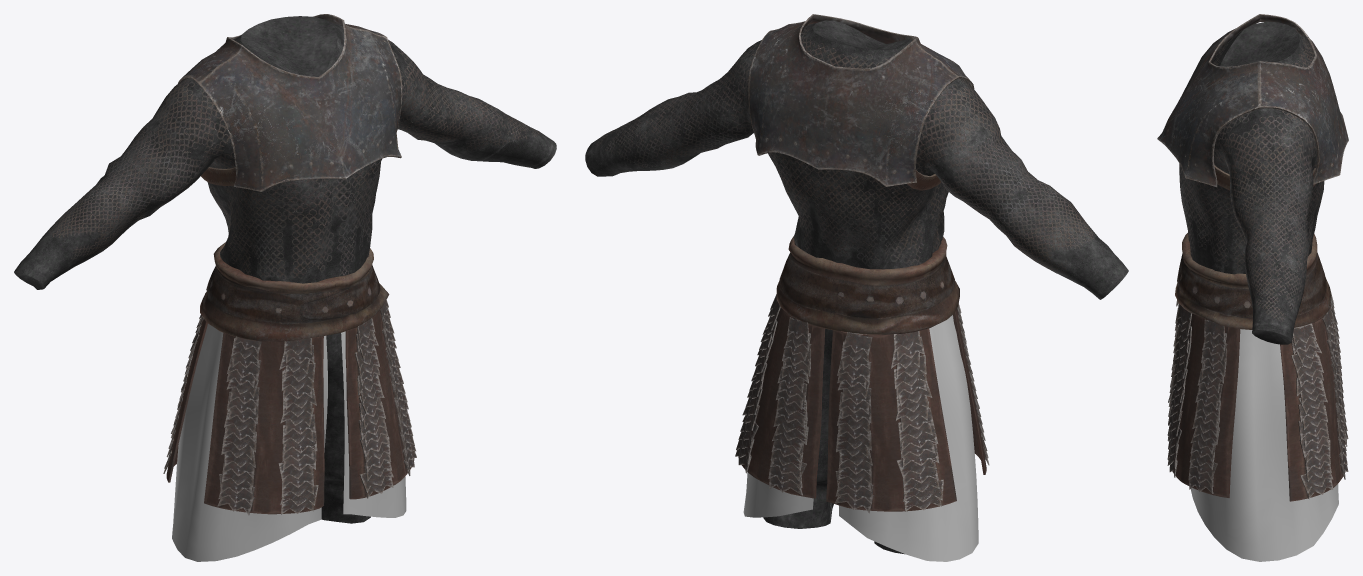
Rendered from sk_dg_uruk_chest_med_a.fbx.
The picture shows the model from 3 angles, left to right: view 1: azimuth 30°, elevation 25°; view 2: azimuth 150°, elevation 25°; view 3: azimuth 270°, elevation 25°; orthographic projection. The views are drawn at different scales.
Visible parts, largest first — view 1: sk_dg_uruk_chest_med_a.0, sk_dg_uruk_chest_med_a.skirt.1, sk_dg_uruk_chest_med_a.2, sk_dg_uruk_chest_med_a.skirt.0, sk_dg_uruk_chest_med_a.1; view 2: sk_dg_uruk_chest_med_a.0, sk_dg_uruk_chest_med_a.skirt.1, sk_dg_uruk_chest_med_a.2, sk_dg_uruk_chest_med_a.skirt.0, sk_dg_uruk_chest_med_a.1; view 3: sk_dg_uruk_chest_med_a.0, sk_dg_uruk_chest_med_a.skirt.1, sk_dg_uruk_chest_med_a.skirt.0, sk_dg_uruk_chest_med_a.2, sk_dg_uruk_chest_med_a.1, sk_dg_uruk_chest_med_a.3.
Boxes of the visible parts, left/top/right/bottom form: sk_dg_uruk_chest_med_a.0: left=14, top=16, right=556, bottom=523; sk_dg_uruk_chest_med_a.skirt.1: left=163, top=300, right=416, bottom=515; sk_dg_uruk_chest_med_a.2: left=178, top=14, right=402, bottom=191; sk_dg_uruk_chest_med_a.skirt.0: left=172, top=323, right=406, bottom=561; sk_dg_uruk_chest_med_a.1: left=200, top=242, right=389, bottom=341; sk_dg_uruk_chest_med_a.0: left=585, top=20, right=1128, bottom=554; sk_dg_uruk_chest_med_a.skirt.1: left=735, top=294, right=989, bottom=513; sk_dg_uruk_chest_med_a.2: left=748, top=14, right=974, bottom=186; sk_dg_uruk_chest_med_a.skirt.0: left=743, top=315, right=978, bottom=561; sk_dg_uruk_chest_med_a.1: left=776, top=236, right=959, bottom=334; sk_dg_uruk_chest_med_a.0: left=1179, top=21, right=1324, bottom=344; sk_dg_uruk_chest_med_a.skirt.1: left=1167, top=288, right=1348, bottom=501; sk_dg_uruk_chest_med_a.skirt.0: left=1178, top=326, right=1338, bottom=561; sk_dg_uruk_chest_med_a.2: left=1157, top=14, right=1348, bottom=187; sk_dg_uruk_chest_med_a.1: left=1175, top=233, right=1330, bottom=329; sk_dg_uruk_chest_med_a.3: left=1214, top=164, right=1315, bottom=190.
Bounding box in the file's own units: 1.35 × 0.4413 × 1.2.
